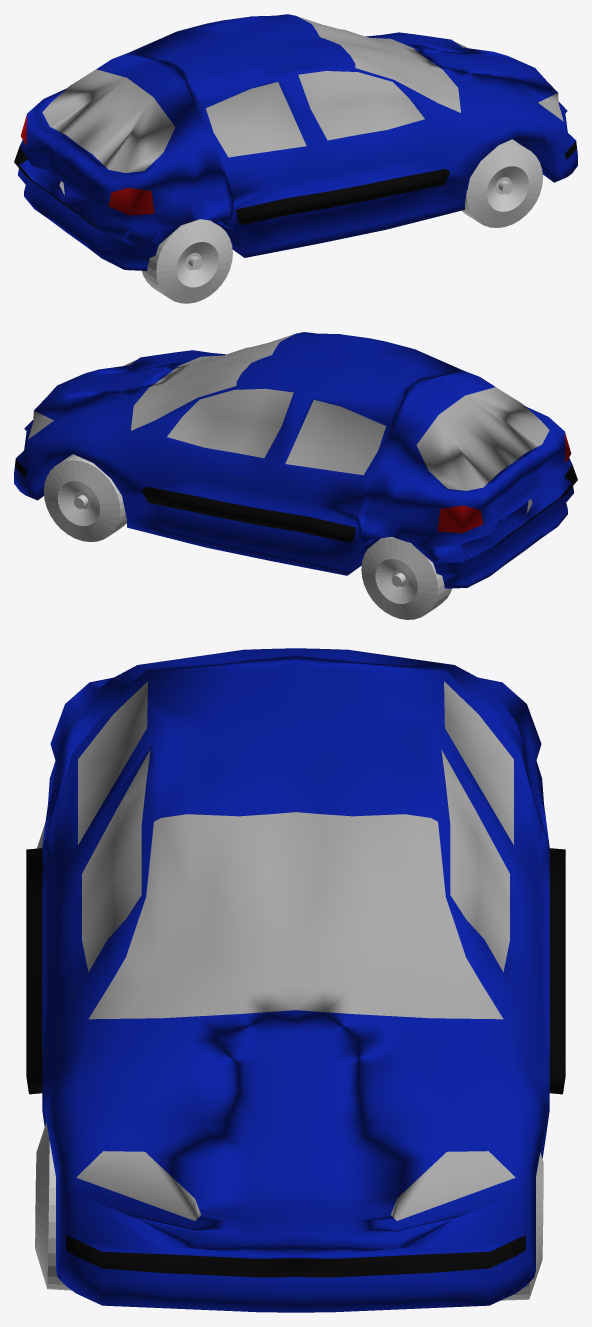
File: car.obj
3 renders of one model, top to bottom at view 1: azimuth 30°, elevation 25°; view 2: azimuth 150°, elevation 25°; view 3: azimuth 270°, elevation 25°, orthographic. The views are drawn at different scales.
Visible parts, largest first — view 1: Cube, Cylinder, Cylinder.001; view 2: Cube, Cylinder.002, Cylinder.003; view 3: Cube, Cylinder.001, Cylinder.002.
Part boxes in pixels (x1,y1,x2,y2): Cube: (14, 14, 577, 270); Cylinder: (142, 219, 232, 303); Cylinder.001: (461, 139, 542, 227); Cube: (14, 332, 577, 588); Cylinder.002: (43, 454, 126, 541); Cylinder.003: (361, 537, 451, 619); Cube: (26, 648, 565, 1312); Cylinder.001: (35, 1122, 71, 1290); Cylinder.002: (501, 1152, 543, 1300).
Bounding box in the file's own units: 13.38 × 4.85 × 6.45.
